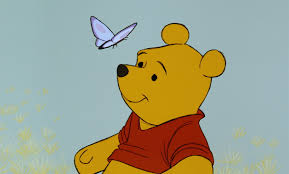Winnie: (111, 25, 225, 152)
